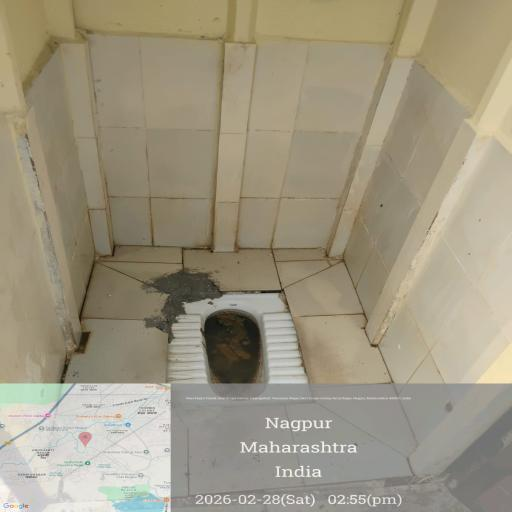clean_floor: (83, 5, 370, 221), (391, 25, 512, 356), (0, 5, 56, 344)
dirty_indian: (170, 297, 305, 383)
partial_dirty_floor: (62, 233, 395, 391)
